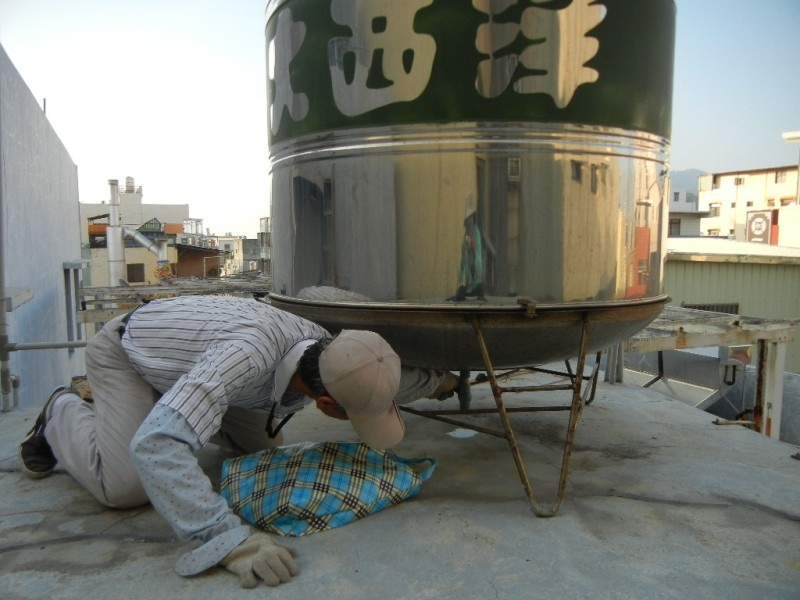water_tower: (263, 1, 691, 522)
